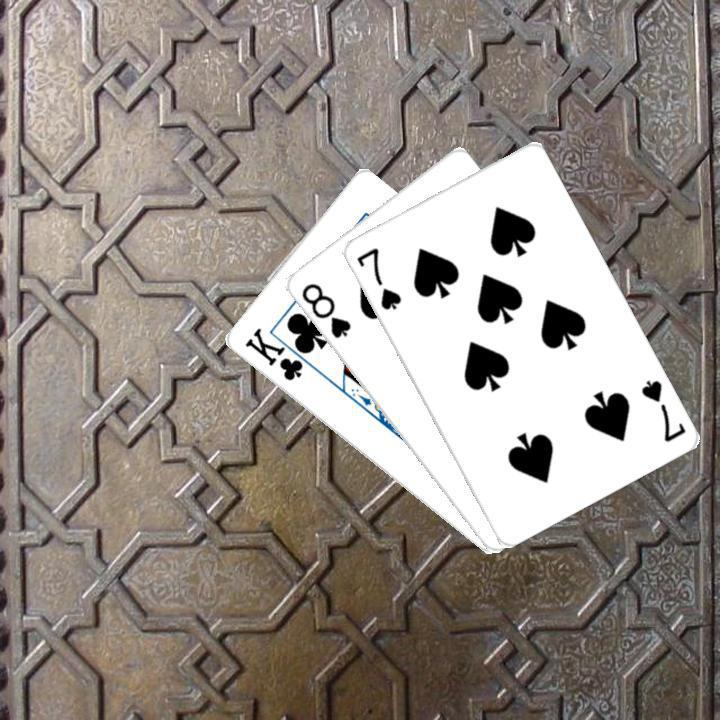7: (351, 243, 403, 312), (636, 375, 687, 444)
8: (296, 278, 353, 341)
K: (240, 323, 318, 383)
